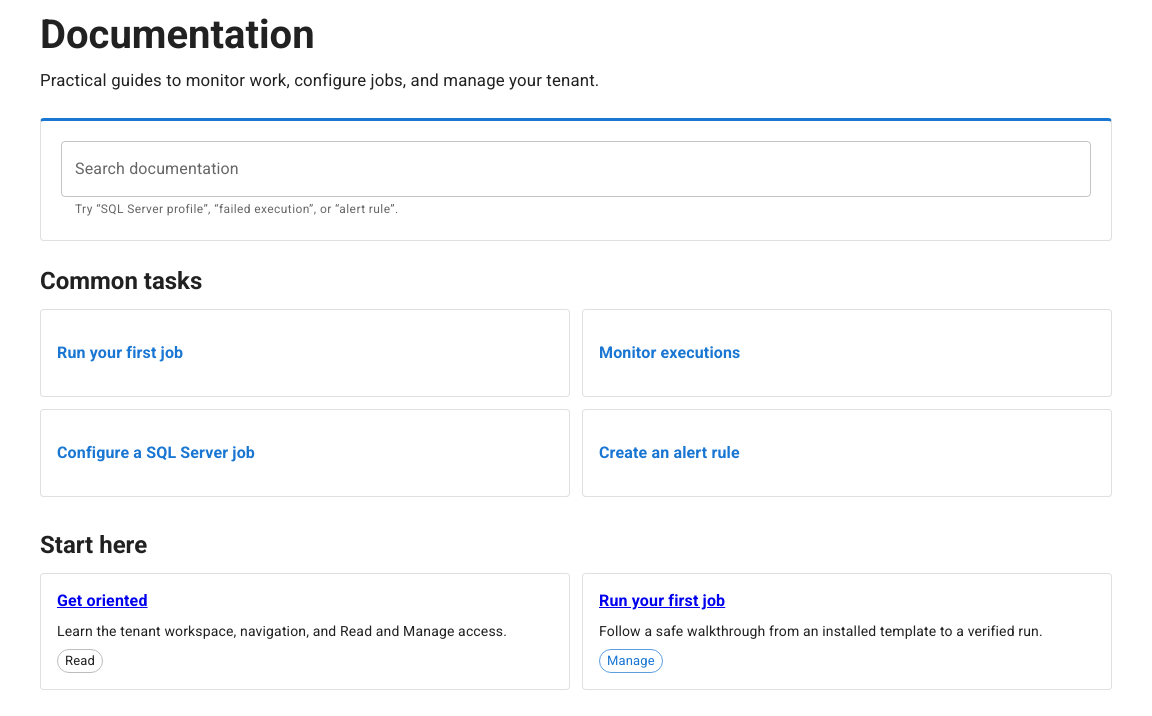
Test: tenant Documentation home › offers a useful empty search state in en
In the search field: point(576, 169) [61, 141, 1091, 197], type "xyz-no-such-topic"
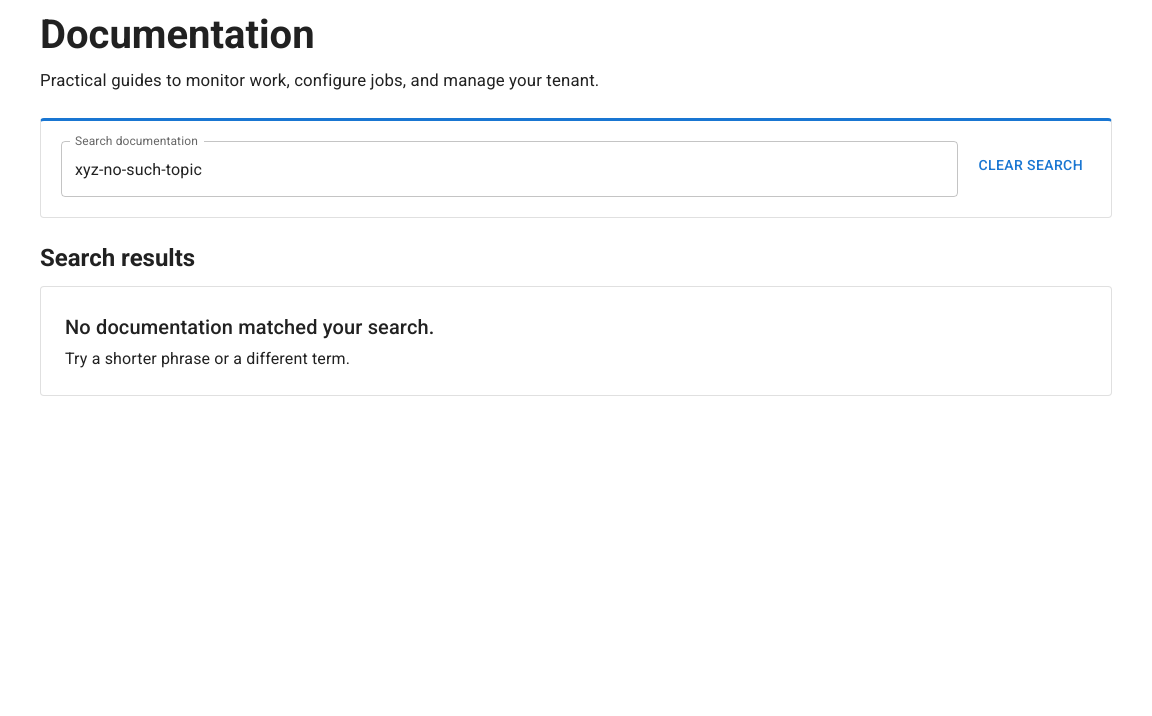
Now the heading "No documentation matched your search." is shown, box [65, 315, 434, 339]
Now the button "Clear search" is shown, box [970, 141, 1091, 189]
